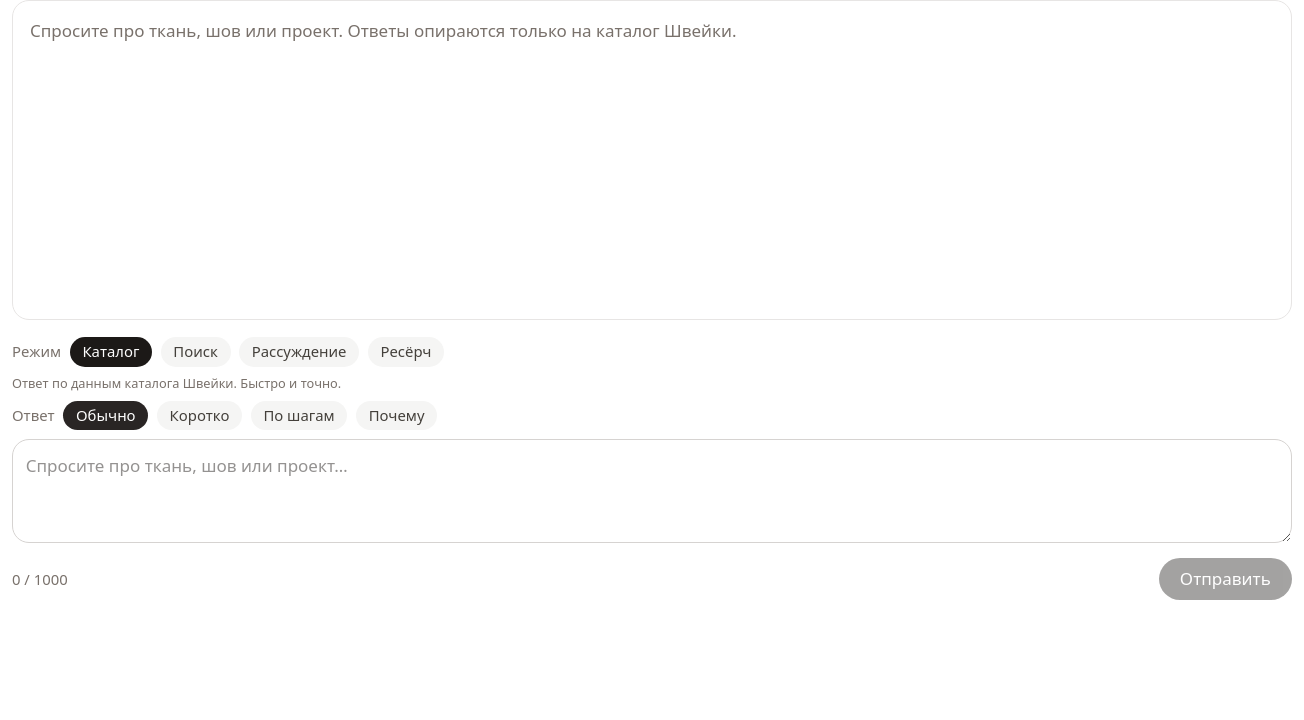
it: ChatWidget › показывает текст ответа ассистента
Type "Какая игла нужна для джинсы?" into the text box at (652, 491), box [12,439,1292,543]
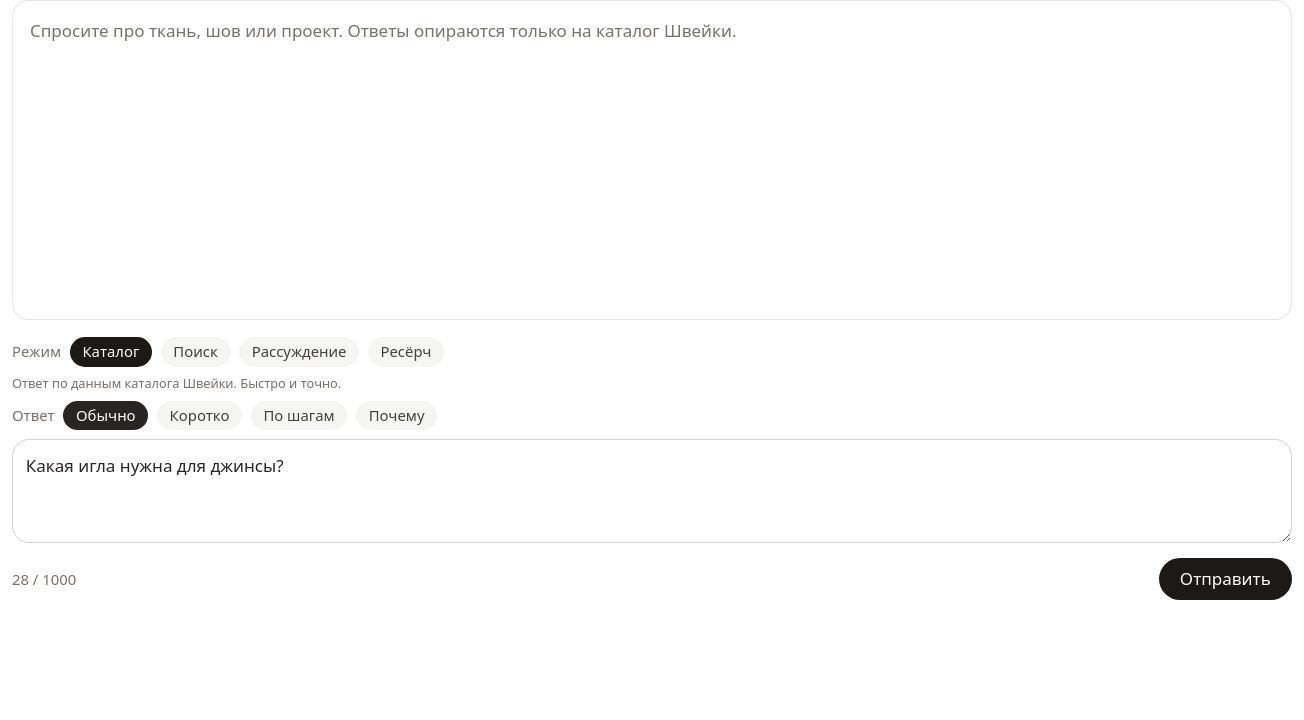
Click the button "Отправить" at (1225, 579), box [1159,558,1292,600]
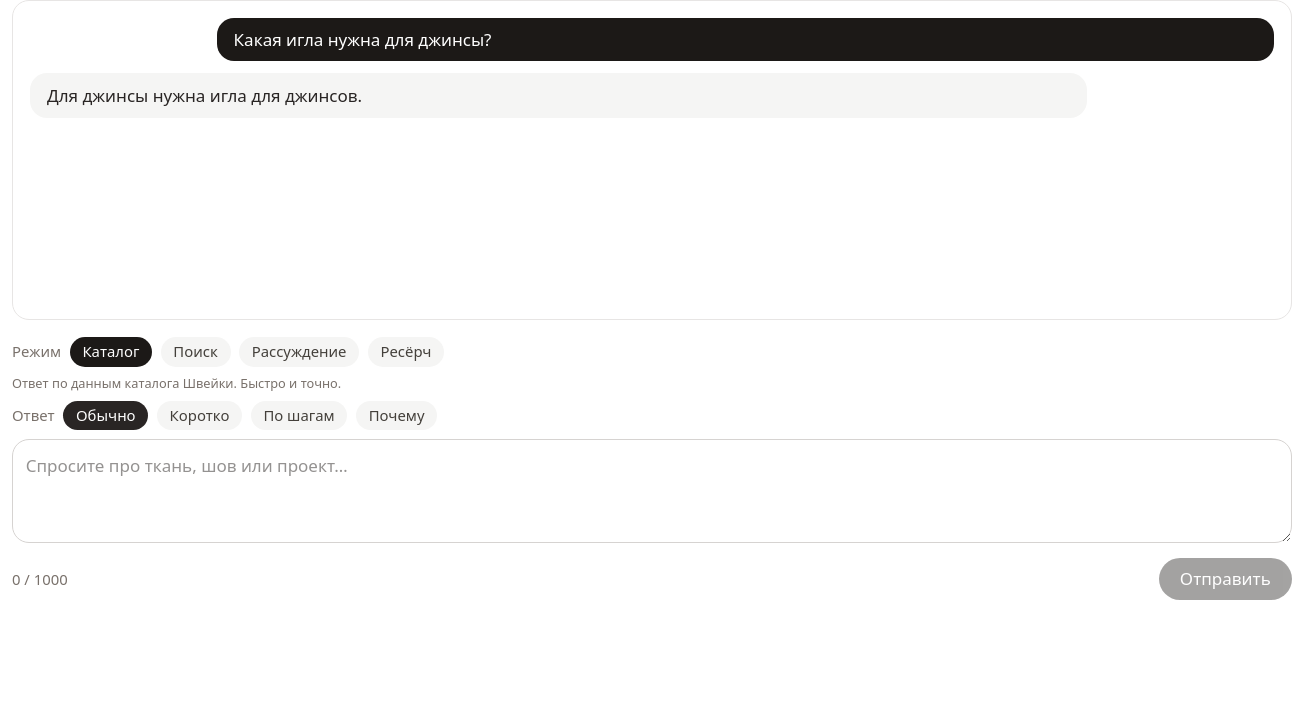
Expected: the text "Для джинсы нужна игла для джинсов." is shown, [47,84,362,107]
